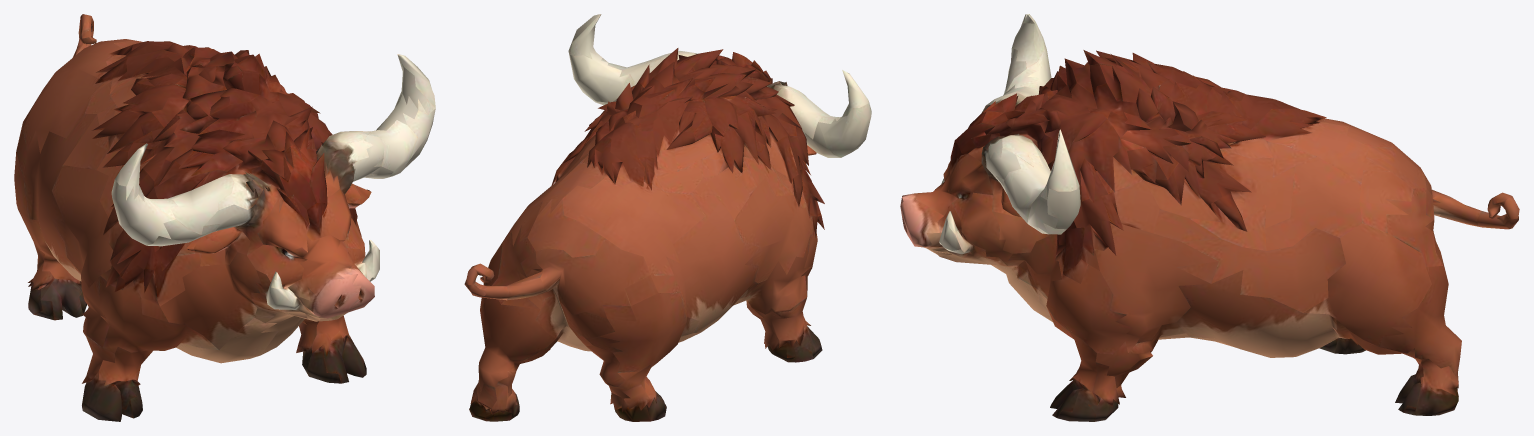
Rendered from tusk_boar.glb.
3 renders of one model, left to right at view 1: azimuth 30°, elevation 25°; view 2: azimuth 150°, elevation 25°; view 3: azimuth 270°, elevation 25°, orthographic. The views are drawn at different scales.
Bounding box in the file's own units: 1.15 × 1.06 × 1.9.
Materials: 1 (1 with a texture image).
